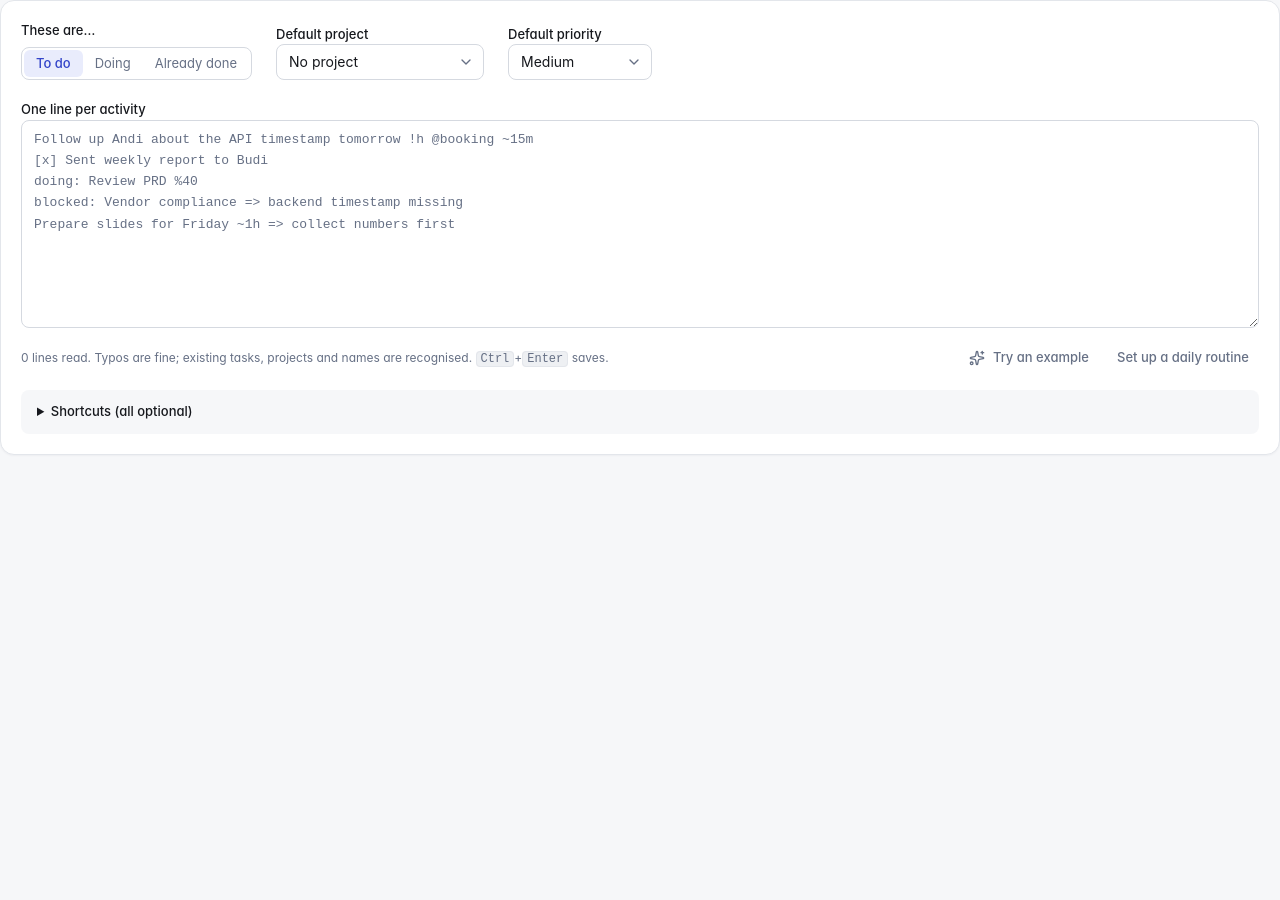
Test: Brain Dump: smart matching › names and tags snap to the ones you already use
The image size is (1280, 900).
Click the text box labelled "One line per activity" at x=640, y=224, box [21,120,1259,328]
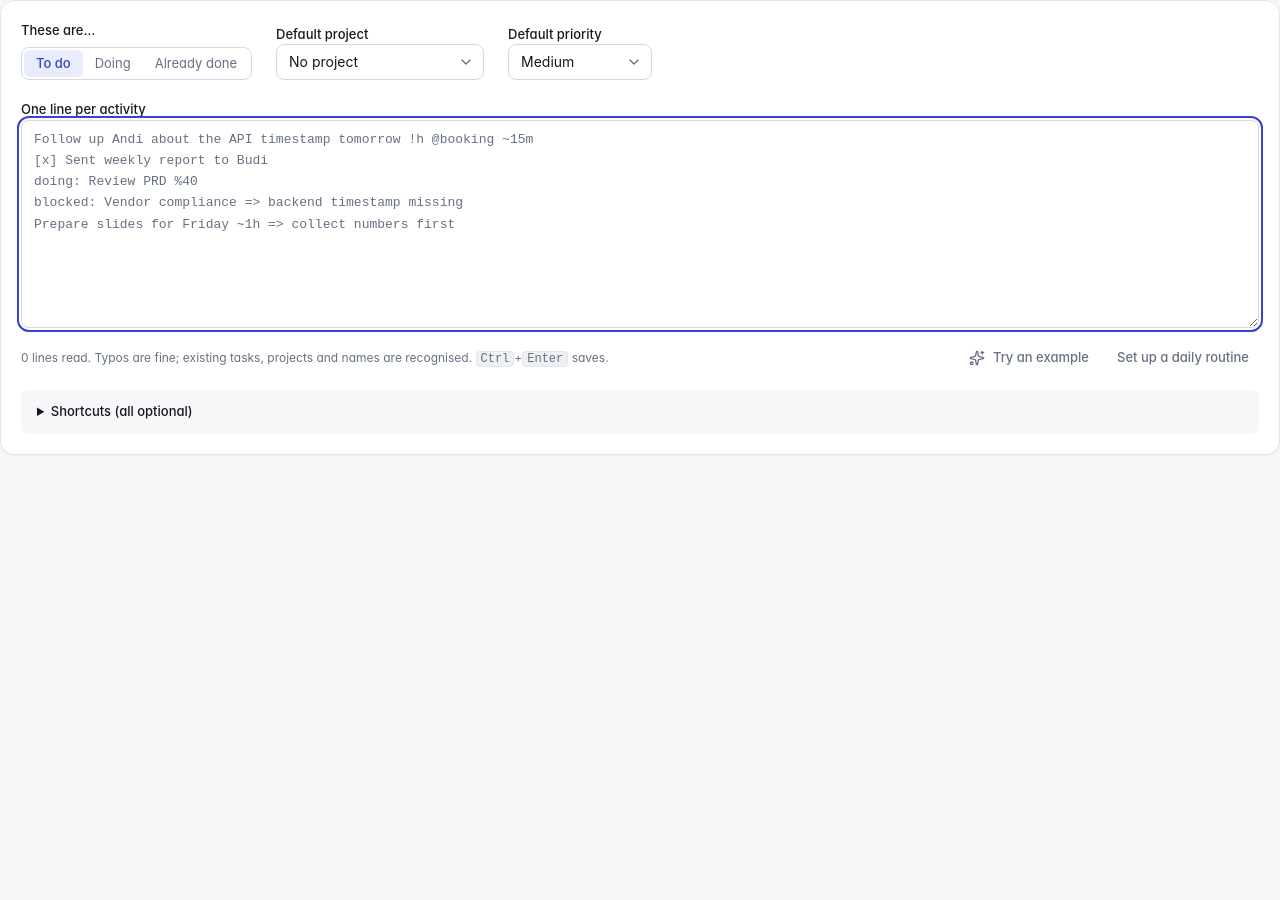
Type keys "API fix >andy #uat"
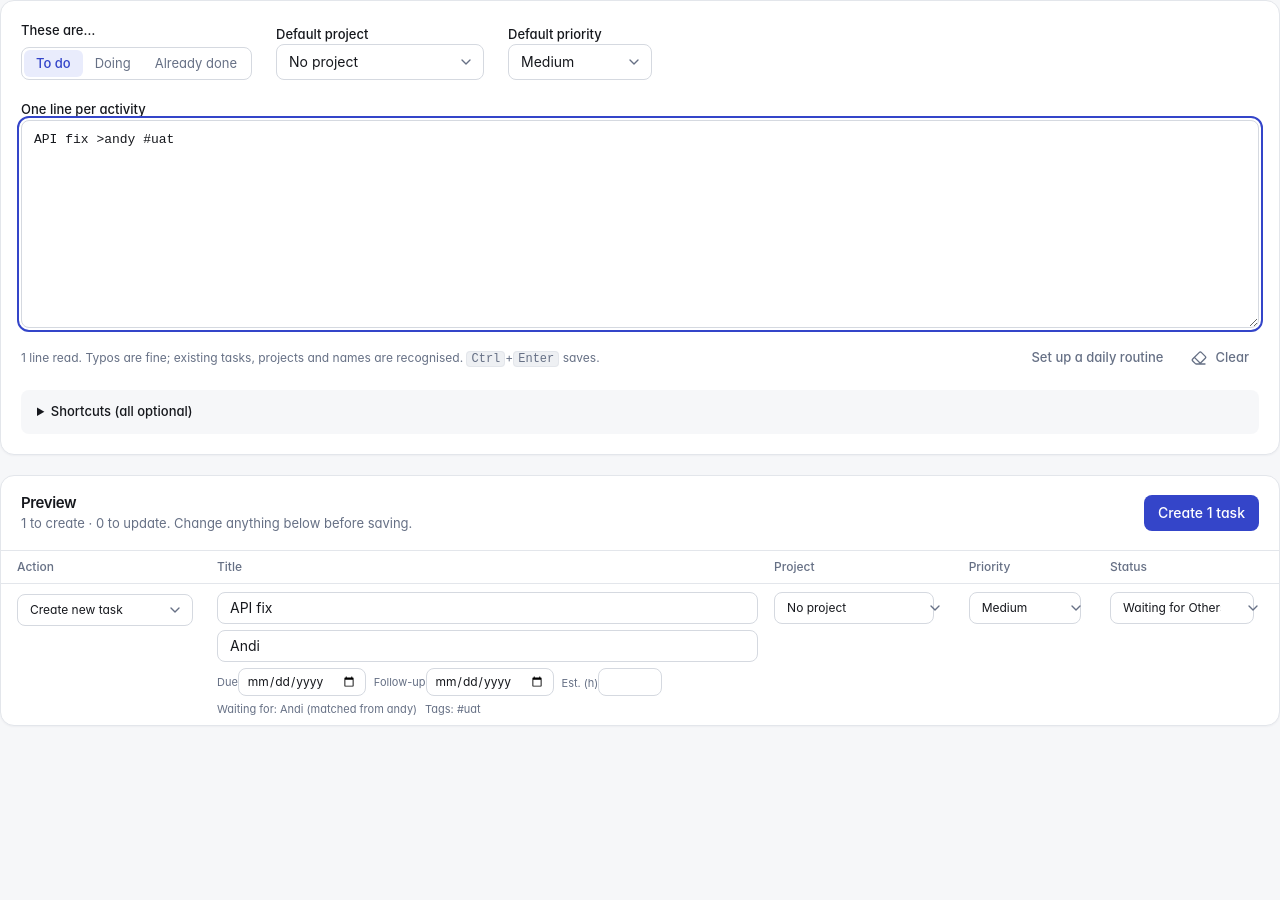
Expected: the field named "Waiting for, line 1" holds "Andi", [217,630,758,662]
Expected: the dropdown named "Status for line 1" shows "Waiting for Others", [1110,592,1254,624]
Expected: the text "Waiting for: Andi (matched from andy)" is shown, [217,702,417,717]
